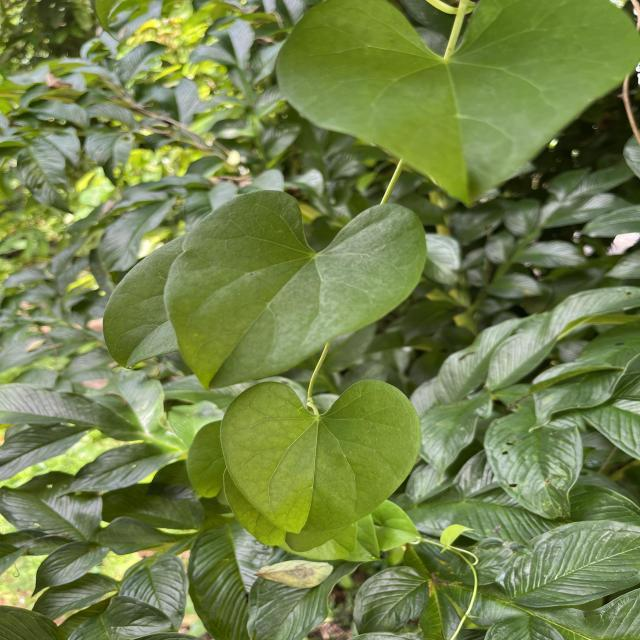Tinospora cordifolia: (273, 0, 640, 212), (161, 186, 432, 392), (216, 376, 425, 537)
